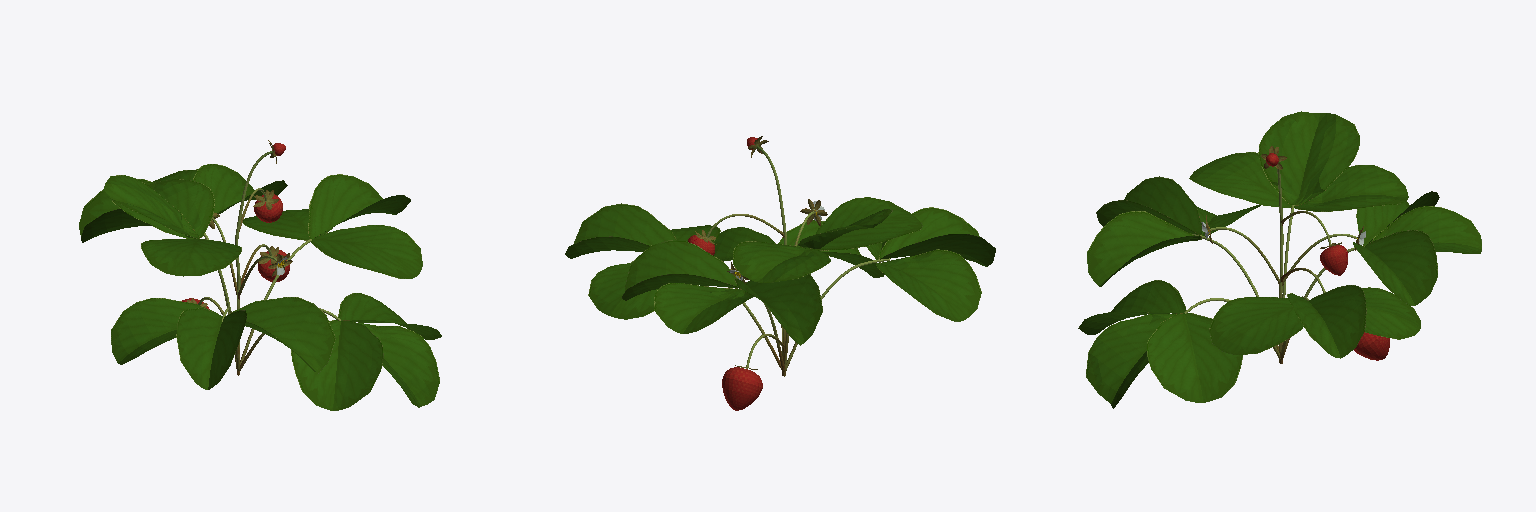
3 views of the same model, side by side, from view 1: azimuth 30°, elevation 25°; view 2: azimuth 150°, elevation 25°; view 3: azimuth 270°, elevation 25° (orthographic).
Visible parts, largest first — view 1: strawberry_on_floor leaf, stam strawberry_on_floor, strawberry_on_floor strawberry, strawberry_on_floor rim_leaf; view 2: strawberry_on_floor leaf, stam strawberry_on_floor, strawberry_on_floor strawberry, strawberry_on_floor rim_leaf; view 3: strawberry_on_floor leaf, stam strawberry_on_floor, strawberry_on_floor strawberry.
Boxes of the visible parts, x1,y1,x2,y2 form: strawberry_on_floor leaf: [79, 164, 441, 410]; stam strawberry_on_floor: [198, 151, 341, 375]; strawberry_on_floor strawberry: [182, 143, 289, 309]; strawberry_on_floor rim_leaf: [187, 140, 292, 307]; strawberry_on_floor leaf: [565, 197, 995, 345]; stam strawberry_on_floor: [706, 146, 889, 376]; strawberry_on_floor strawberry: [688, 137, 762, 410]; strawberry_on_floor rim_leaf: [695, 136, 827, 369]; strawberry_on_floor leaf: [1078, 111, 1481, 408]; stam strawberry_on_floor: [1184, 169, 1356, 363]; strawberry_on_floor strawberry: [1266, 153, 1389, 360].
Size of the model in its own units: 16.29 by 10.46 by 16.63.
1 materials, 1 textured.